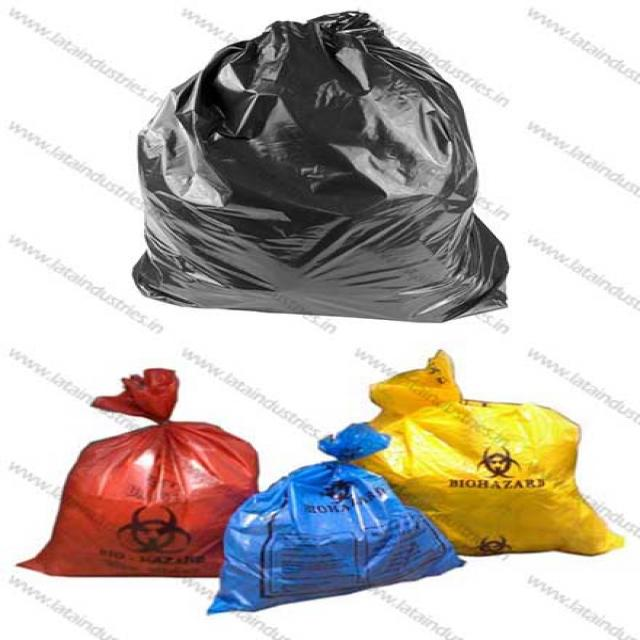plastic_bag: (141, 3, 509, 332), (350, 378, 617, 549), (34, 394, 241, 613), (232, 433, 427, 616)
